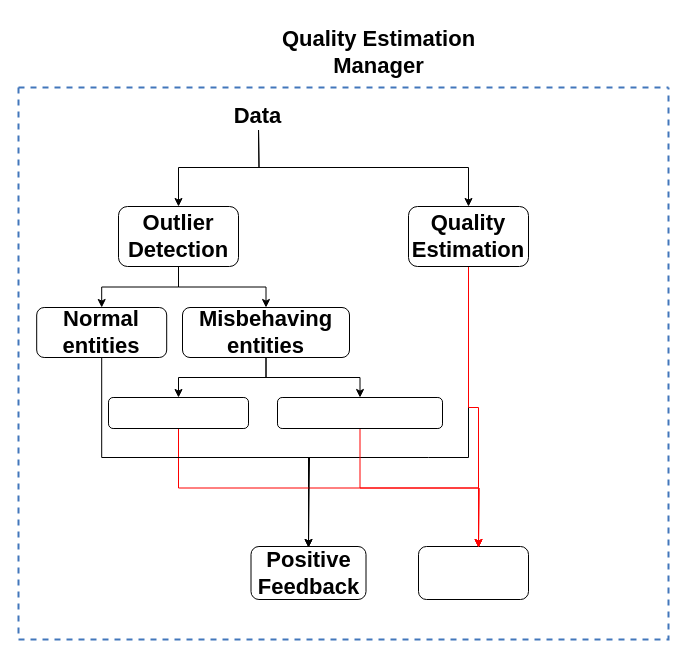
This 686x657 diagram has some shape labels left out. The shapes that lost their labels are listed below. From the top down, each one's centre as x and y in pixels, then its label:
the point at 178,412: Intentionally
the point at 359,412: Unintentionally
the point at 473,573: Negative Feedback
